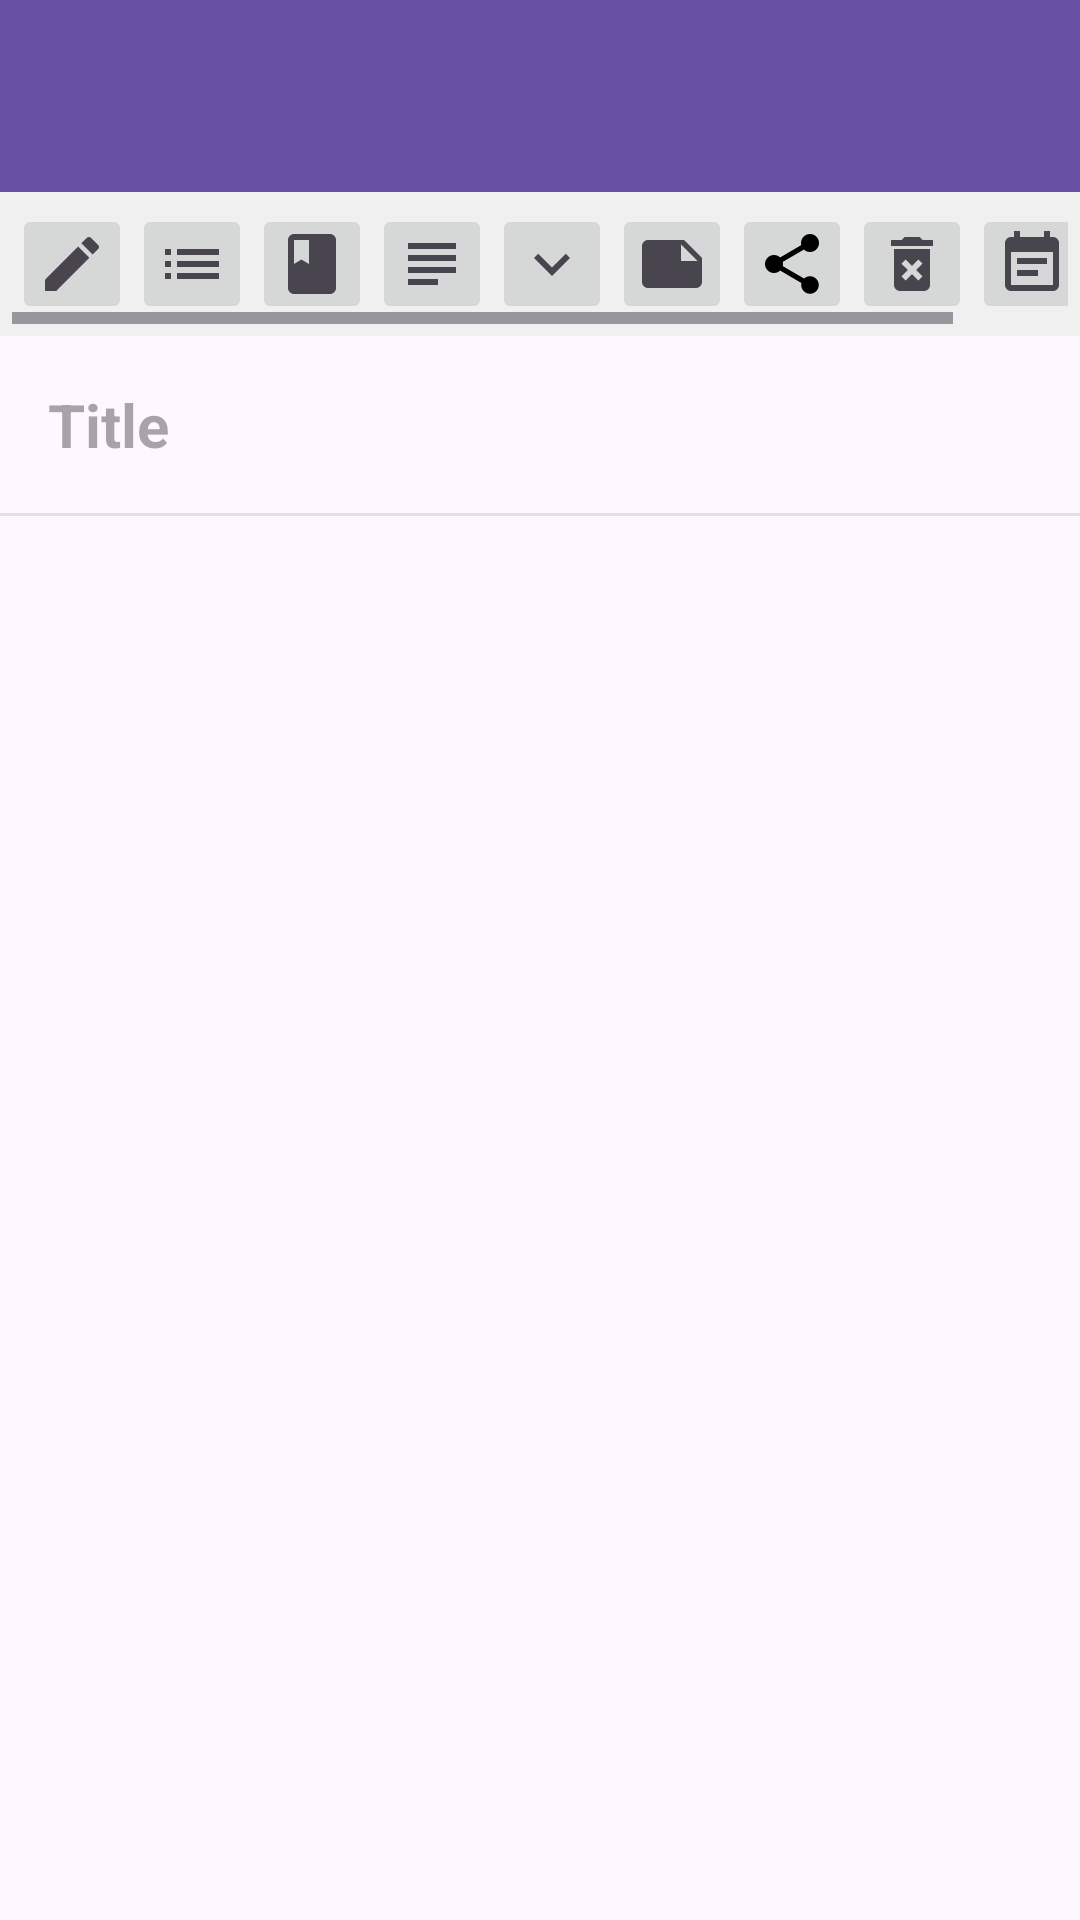

Screen size 1080x1920. Icon name, then its box in pixels as (left=x1, top=y1, right=x2, bottom=y2):
Delete: (left=864, top=222, right=960, bottom=306)
edit: (left=24, top=222, right=120, bottom=306)
event note: (left=984, top=222, right=1068, bottom=306)
list: (left=144, top=222, right=240, bottom=306)
Share: (left=744, top=222, right=840, bottom=306)
Subheading: (left=384, top=222, right=480, bottom=306)
